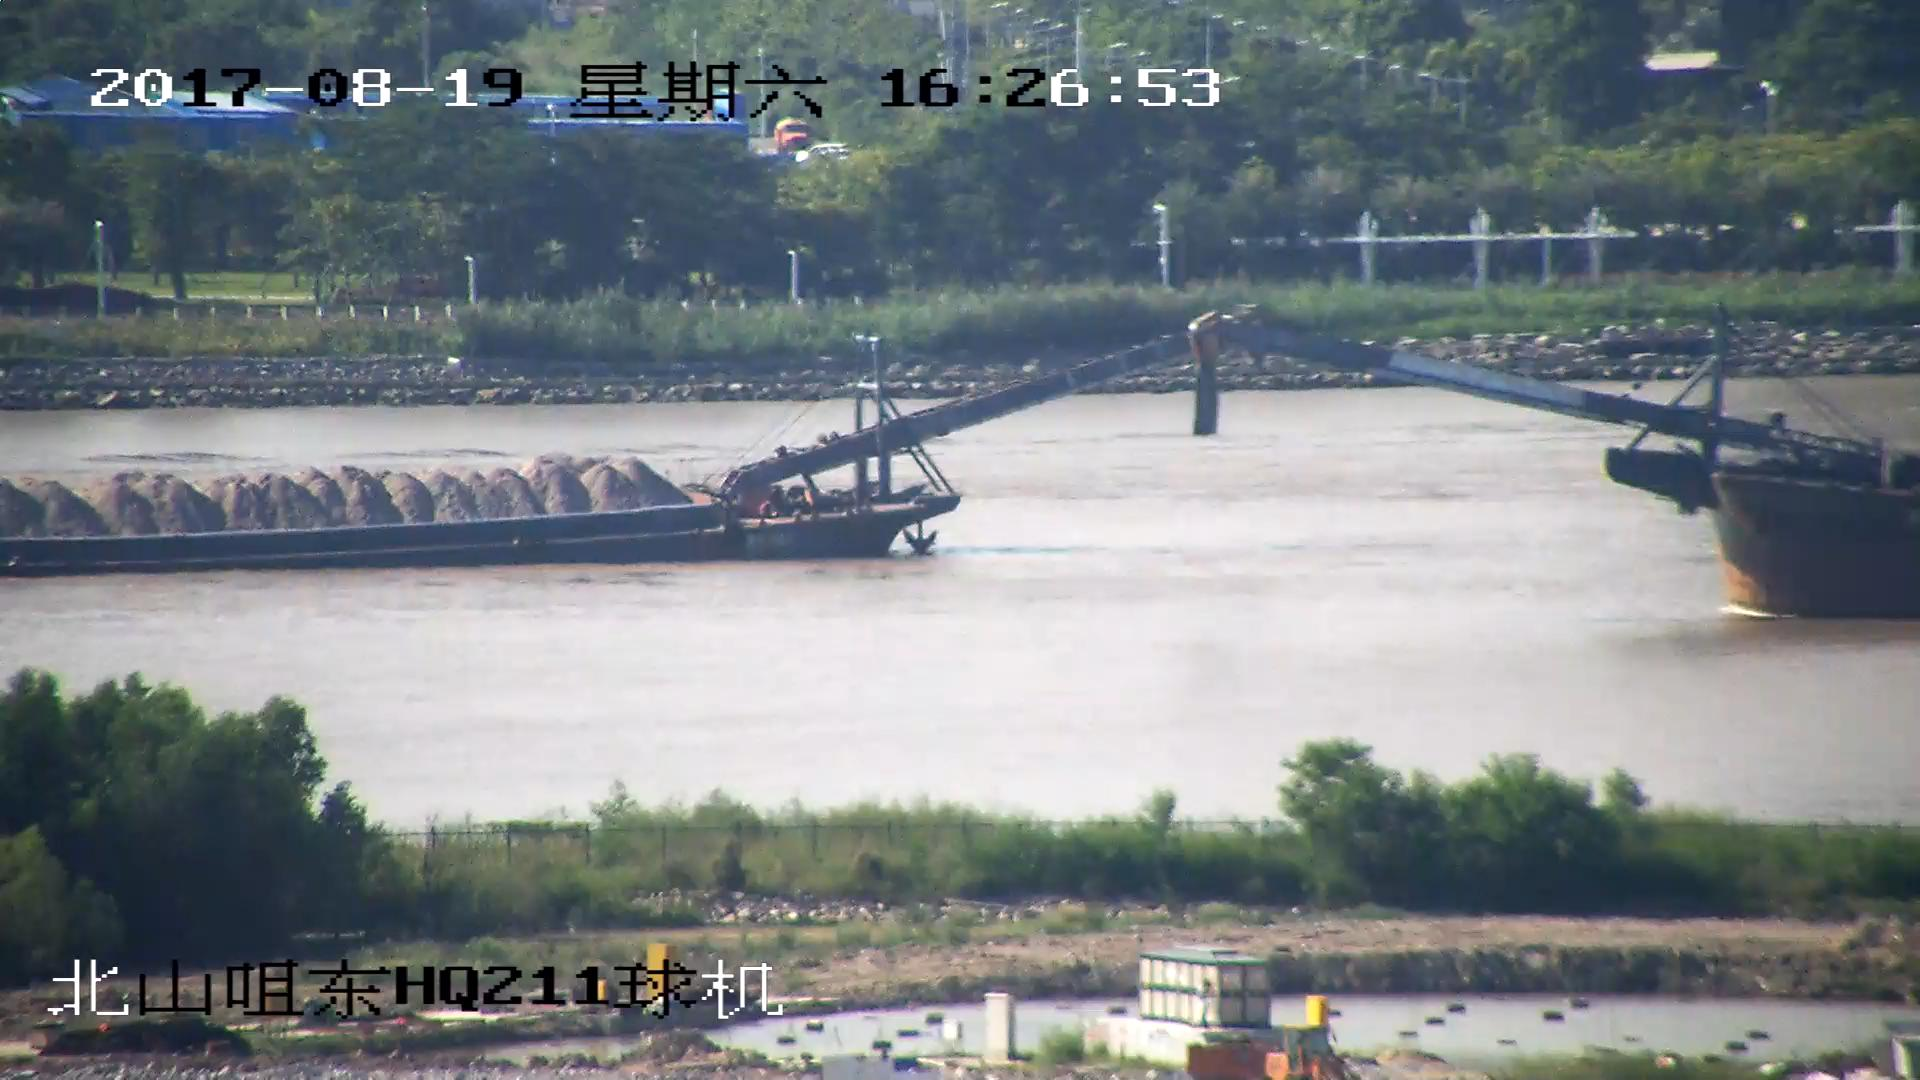bulk cargo carrier: (1188, 311, 1920, 623)
ore carrier: (1, 308, 1252, 579)
